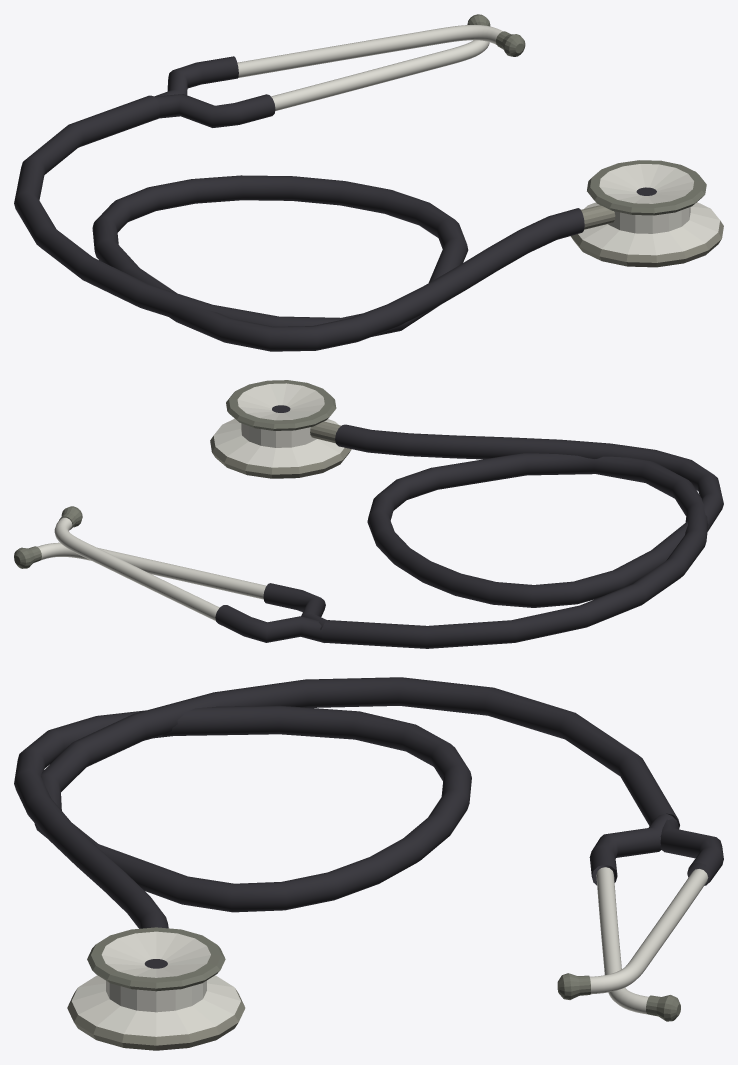
Rendered from stethiscope.fbx.
3 renders of one model, top to bottom at view 1: azimuth 30°, elevation 25°; view 2: azimuth 150°, elevation 25°; view 3: azimuth 270°, elevation 25°, orthographic. The views are drawn at different scales.
Parts seen in each view (by area): view 1: BezierCurve.002; view 2: BezierCurve.002; view 3: BezierCurve.002.
Boxes of the visible parts, x1=… form: BezierCurve.002: x1=14, y1=14, x2=723, y2=351; BezierCurve.002: x1=14, y1=380, x2=723, y2=648; BezierCurve.002: x1=14, y1=677, x2=723, y2=1050.
Size of the model in its own units: 52.61 by 5.14 by 49.41.
